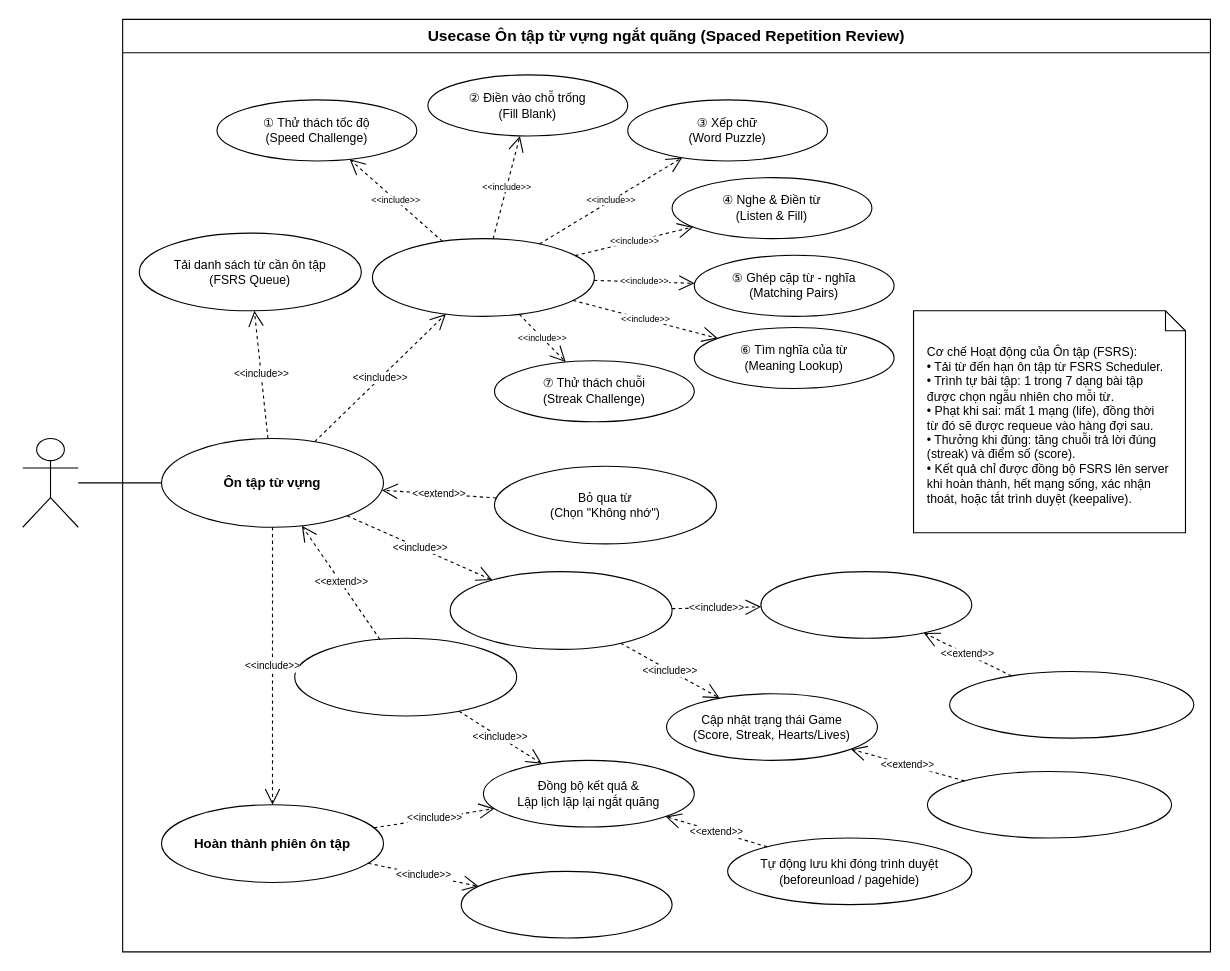
This 1230x971 diagram has some shape labels left out. Each missing label, with the centre of its shape:
Ghi nhận & Đánh giá câu trả lời: (x=560, y=610)
Học lại từ trả lời sai (Requeue ngẫu nhiên vào hàng đợi): (x=1071, y=704)
Người học: (x=50, y=482)
Thoát phiên ôn tập (Xác nhận thoát): (x=405, y=676)
Thực hiện bài tập ôn tập: (x=482, y=277)
Tự động kết thúc phiên sớm (Khi hết mạng sống / lives): (x=1049, y=804)
Xem báo cáo kết quả (Practice Results): (x=566, y=904)
Xem phản hồi Đúng/Sai (Word Review Popover): (x=866, y=604)
